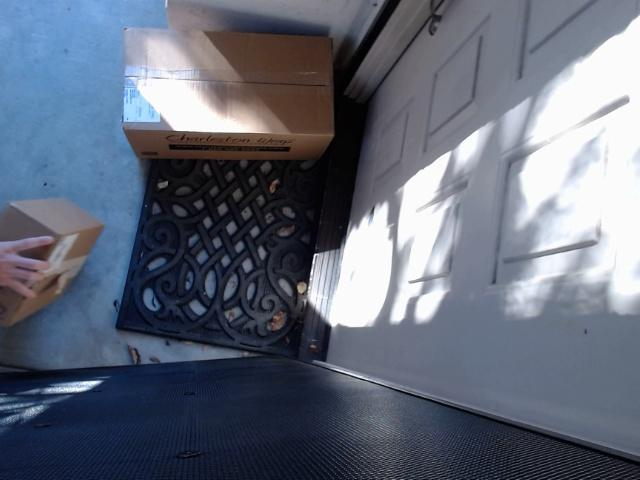box: (123, 27, 333, 161), (0, 198, 104, 327)
